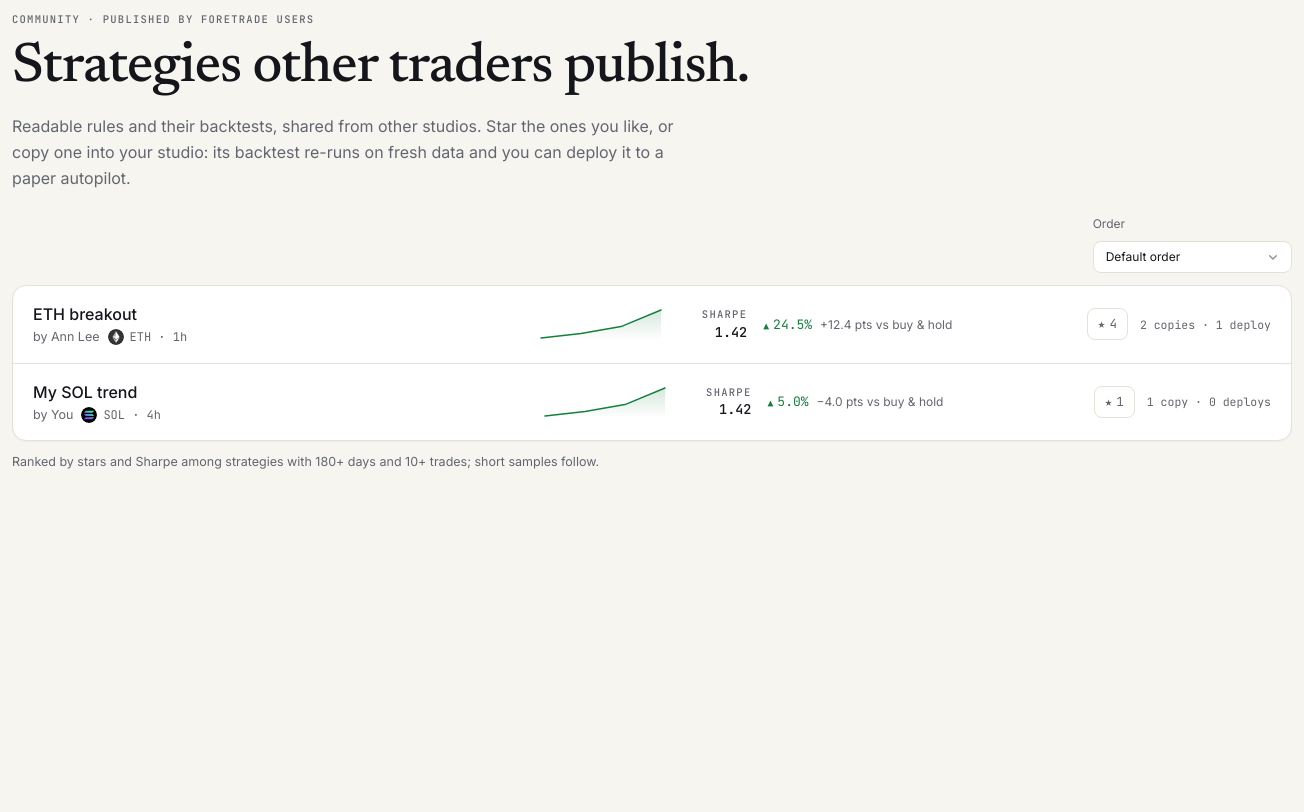
Test: Community board › reverts a refused star and says why
Click the button named "Star · 4 stars" at coordinates (1107, 324), box [1087,308,1128,340]
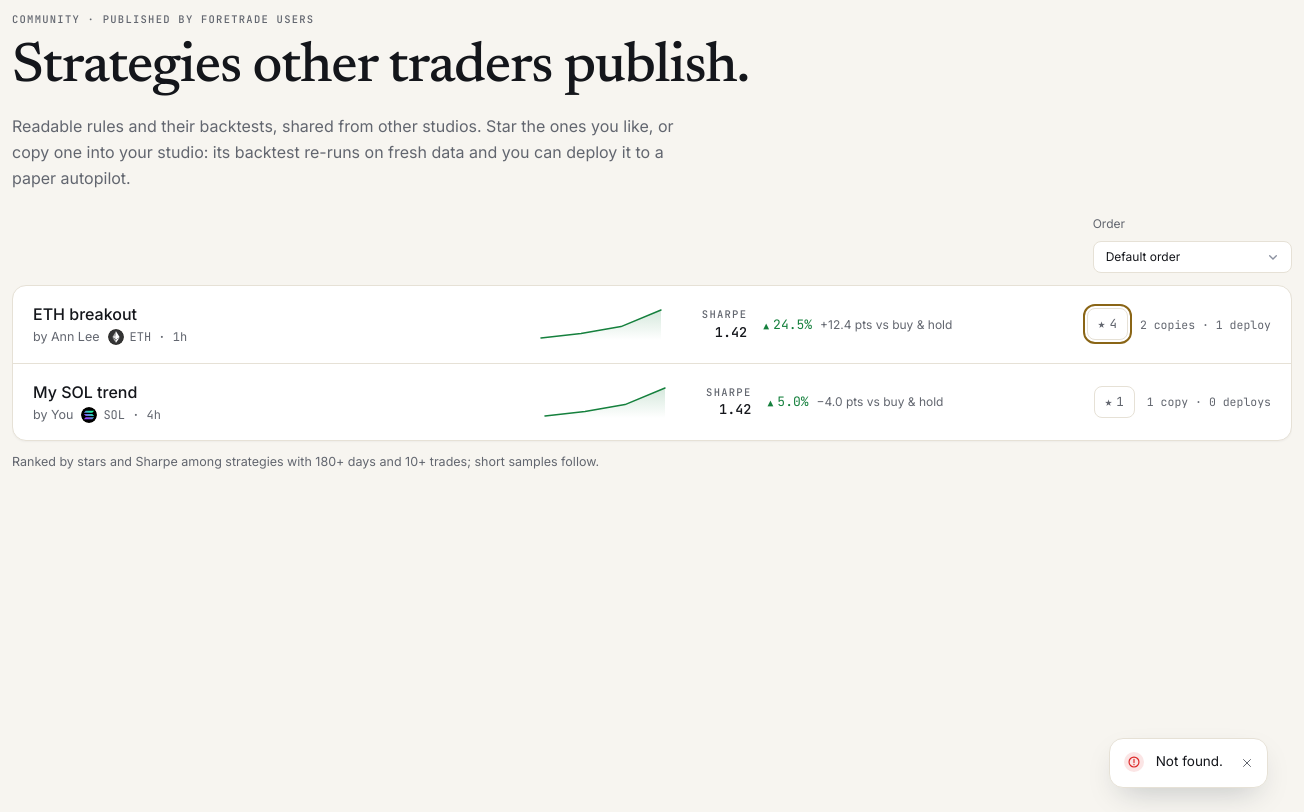
Expected: the message reads "Not found.", [1156,753,1223,769]
